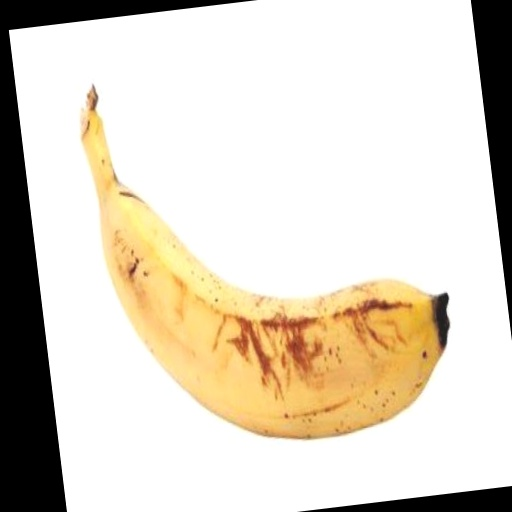fruit: (82, 88, 448, 438)
